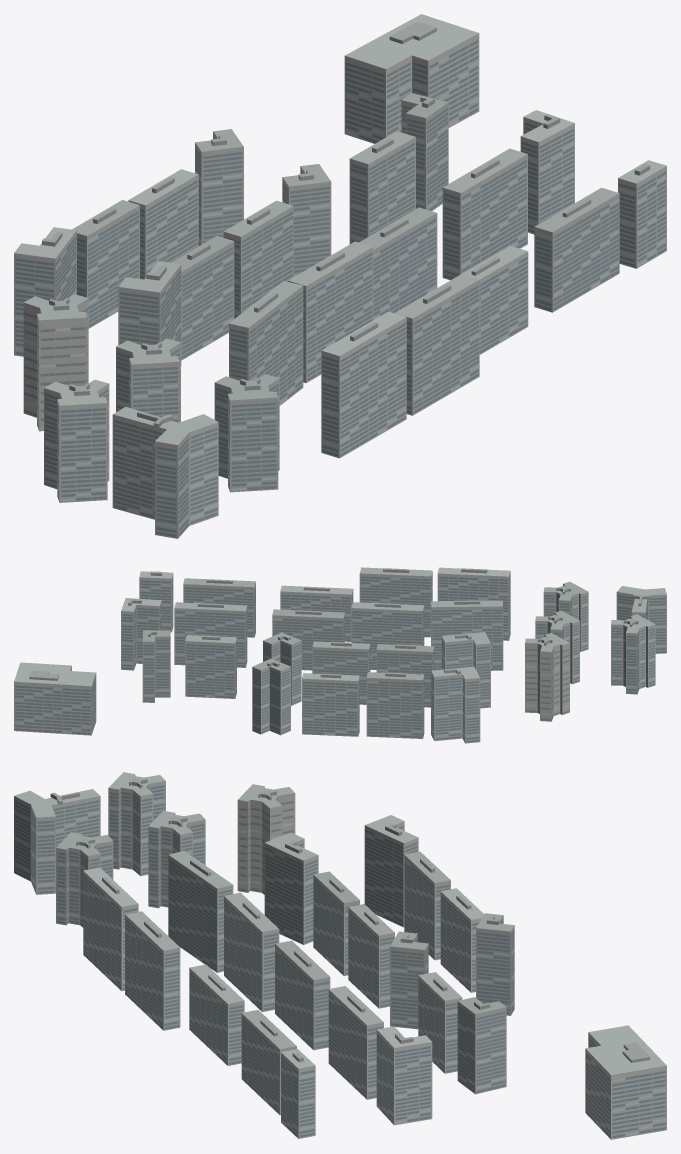
Rendered from apt-a13527203.glb.
3 renders of one model, top to bottom at view 1: azimuth 30°, elevation 25°; view 2: azimuth 150°, elevation 25°; view 3: azimuth 270°, elevation 25°, orthographic. The views are drawn at different scales.
Parts seen in each view (by area): view 1: apt-a13527203; view 2: apt-a13527203; view 3: apt-a13527203.
Boxes of the visible parts, x1,y1,x2,y2 form: apt-a13527203: (14,14,666,538); apt-a13527203: (14,567,666,743); apt-a13527203: (14,772,666,1139).
Size of the model in its own units: 436 by 67 by 418.
